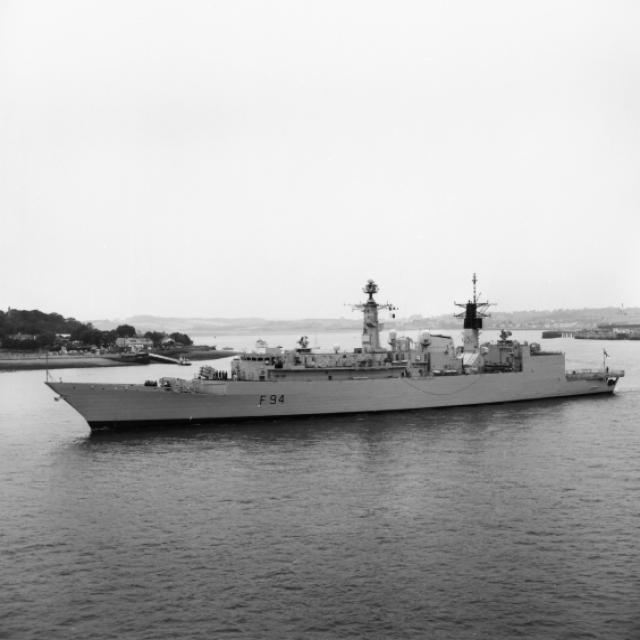Fragata: (43, 256, 623, 441)
